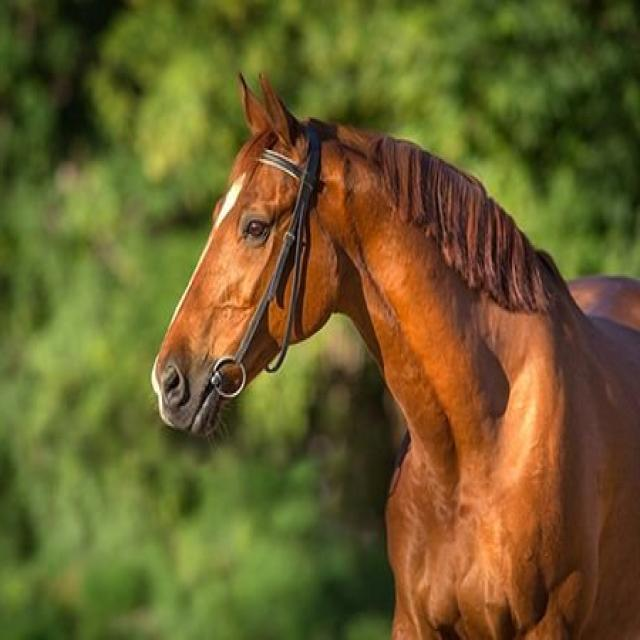horse: (152, 75, 640, 638)
